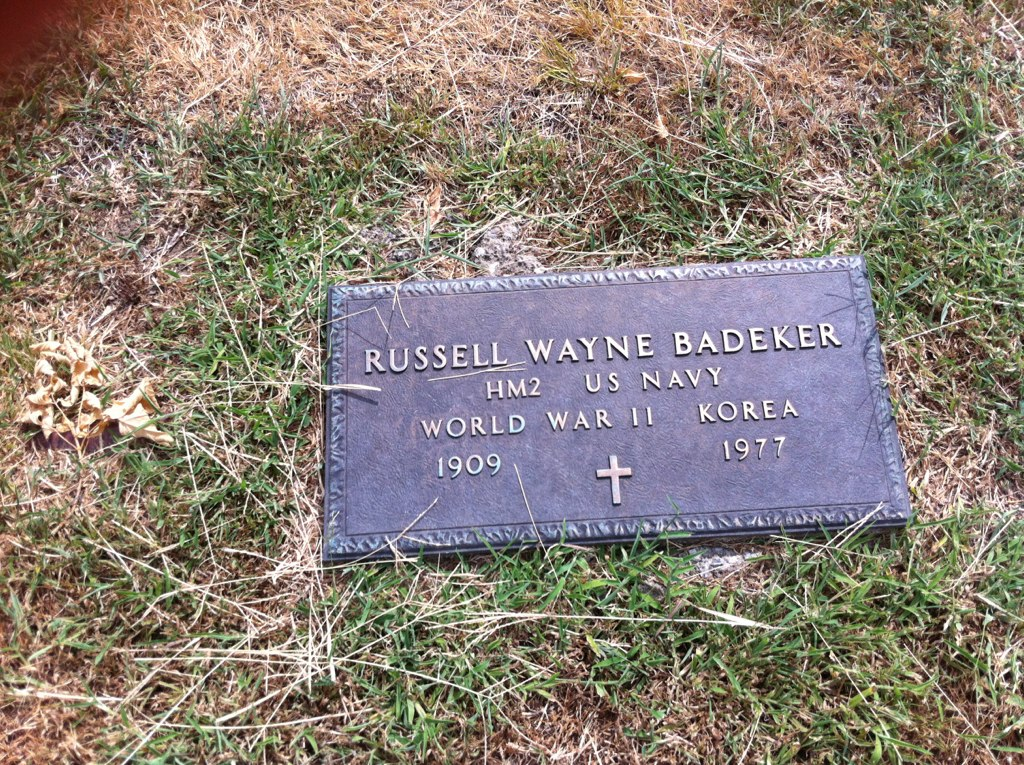flat: (325, 250, 915, 561)
